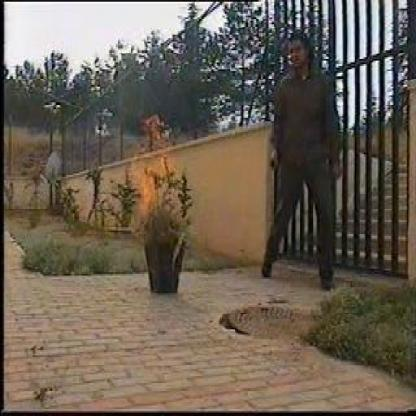foggia-v2-map80-epoch100 - v1 4323: (135, 108, 169, 216)
